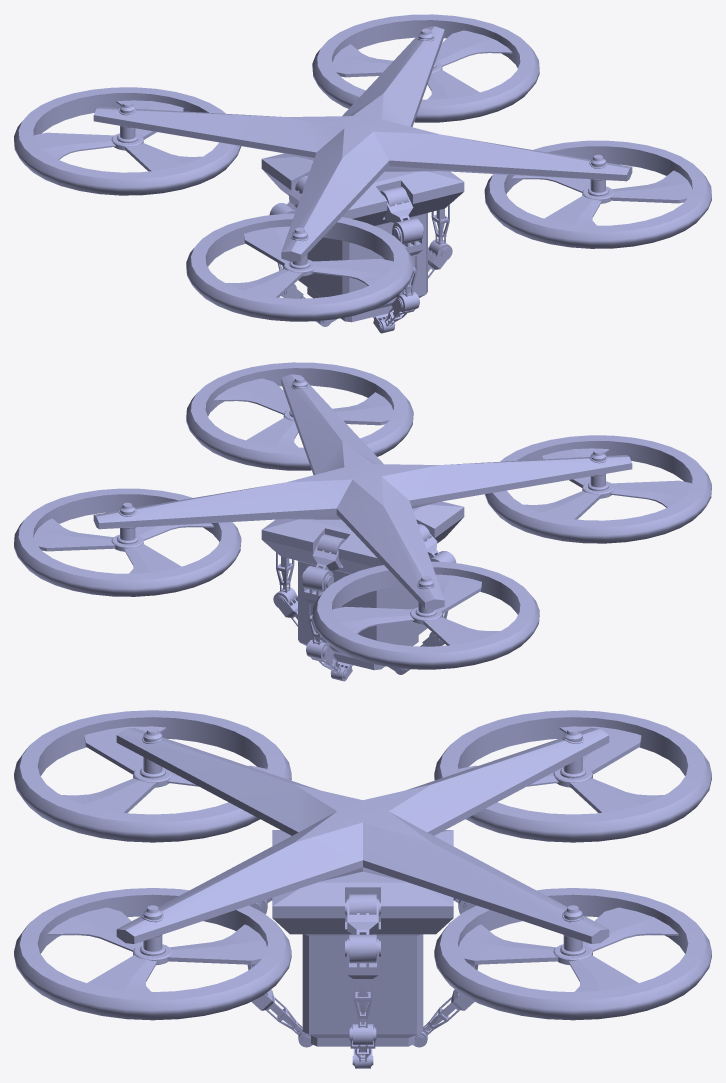
Rendered from Kwadrocopter.fbx.
The picture shows the model from 3 angles, top to bottom: view 1: azimuth 30°, elevation 25°; view 2: azimuth 150°, elevation 25°; view 3: azimuth 270°, elevation 25°; orthographic projection. The views are drawn at different scales.
Parts seen in each view (by area): view 1: 0CC8IG_low.003, FK3PUW_low.002, EBI43J_low.003, H9MH9A_low.003, MYWGGO_low.003, HAQWX0_low.003, TMNQYF_low.003, 17C6UR_low.004, AEQN67_low.004, AEQN67_low.005; view 2: 0CC8IG_low.003, FK3PUW_low.002, EBI43J_low.003, H9MH9A_low.003, MYWGGO_low.003, HAQWX0_low.003, TMNQYF_low.003, 17C6UR_low.004, AEQN67_low.004, AEQN67_low.005; view 3: 0CC8IG_low.003, FK3PUW_low.002, EBI43J_low.003, MYWGGO_low.003, H9MH9A_low.003, TMNQYF_low.003, HAQWX0_low.003, 6BEL64_low.004, AEQN67_low.005, 17C6UR_low.005, 314FC3_low.005, TDIL8M_low.005.
Part boxes in pixels (x1,y1,x2,y2): 0CC8IG_low.003: [14, 14, 711, 321]; FK3PUW_low.002: [93, 26, 632, 261]; EBI43J_low.003: [34, 30, 691, 297]; H9MH9A_low.003: [261, 153, 464, 225]; MYWGGO_low.003: [298, 212, 428, 322]; HAQWX0_low.003: [120, 28, 605, 265]; TMNQYF_low.003: [111, 61, 614, 276]; 17C6UR_low.004: [392, 218, 423, 244]; AEQN67_low.004: [393, 226, 423, 296]; AEQN67_low.005: [277, 201, 453, 270]; 0CC8IG_low.003: [14, 362, 711, 669]; FK3PUW_low.002: [93, 374, 632, 609]; EBI43J_low.003: [34, 378, 691, 645]; H9MH9A_low.003: [261, 501, 464, 573]; MYWGGO_low.003: [297, 560, 427, 670]; HAQWX0_low.003: [120, 376, 605, 613]; TMNQYF_low.003: [111, 409, 614, 624]; 17C6UR_low.004: [302, 566, 333, 592]; AEQN67_low.004: [302, 574, 332, 644]; AEQN67_low.005: [272, 549, 448, 618]; 0CC8IG_low.003: [14, 710, 711, 1020]; FK3PUW_low.002: [116, 728, 609, 943]; EBI43J_low.003: [47, 726, 678, 991]; MYWGGO_low.003: [302, 934, 423, 1046]; H9MH9A_low.003: [272, 830, 453, 934]; TMNQYF_low.003: [133, 766, 592, 965]; HAQWX0_low.003: [143, 727, 582, 951]; 6BEL64_low.004: [251, 989, 474, 1035]; AEQN67_low.005: [347, 939, 378, 1027]; 17C6UR_low.005: [345, 934, 380, 963]; 314FC3_low.005: [347, 898, 378, 934]; TDIL8M_low.005: [346, 894, 379, 916].
Size of the model in its own units: 1.53 by 0.5623 by 1.53.
